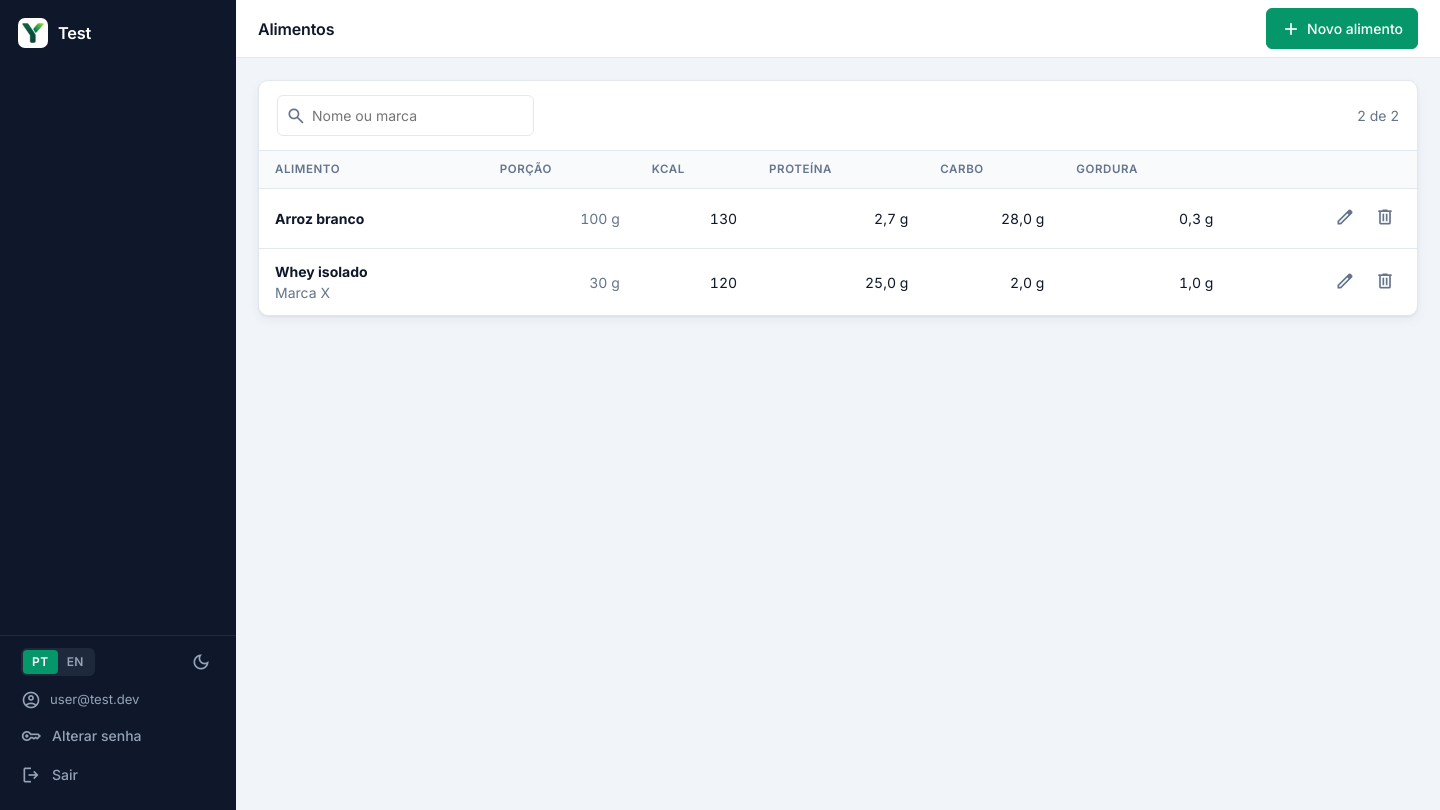
Test: Foods › filtra por nome ou marca
The width and height of the screenshot is (1440, 810).
Type "whey" into the search field with placeholder "Nome ou marca". click: (406, 116)
box: [277,95,534,136]
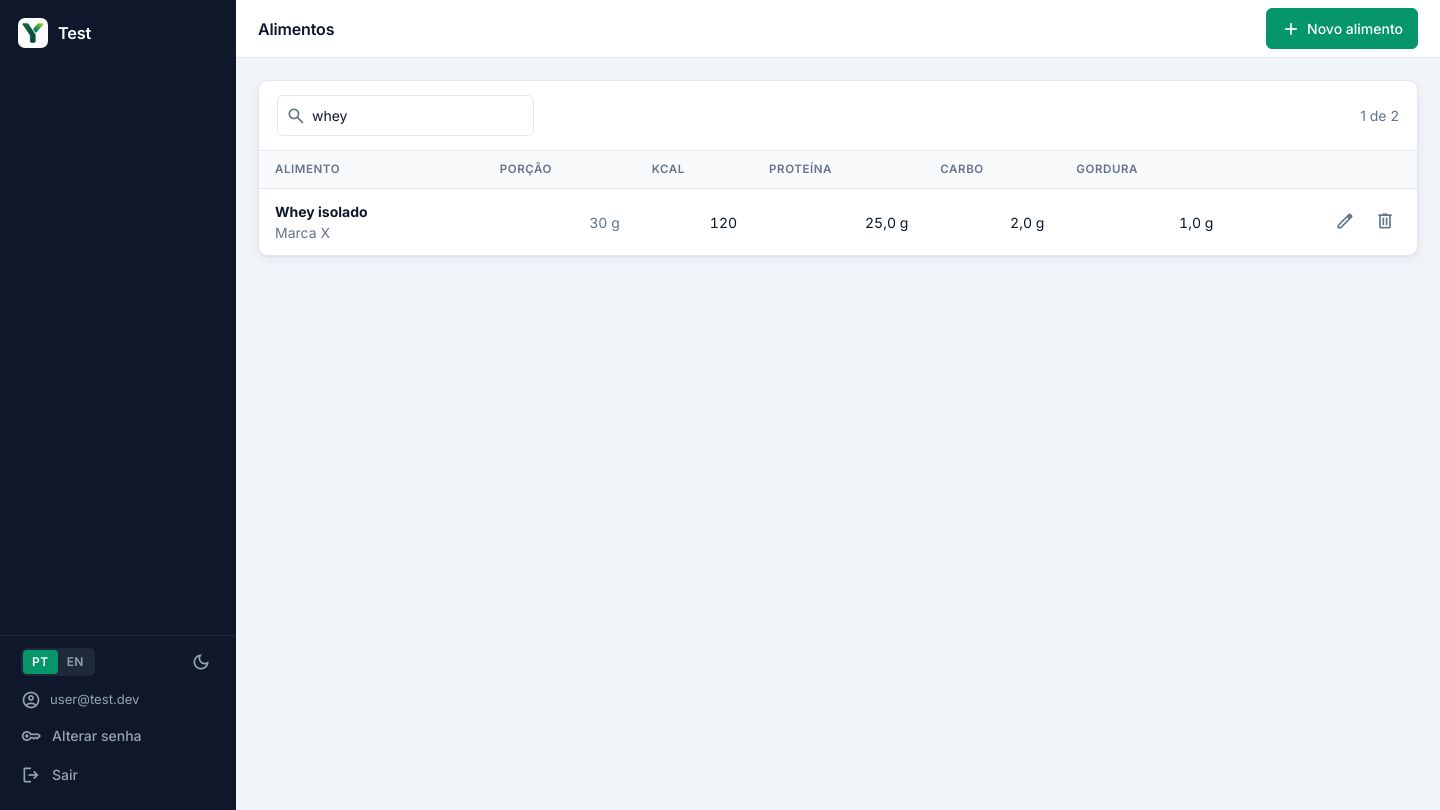
Expected: the text "Whey isolado" is shown, [275,203,368,220]
Now the text "1 de 2" is shown, box [1360,105,1399,126]
Now the text "Arroz branco" is gone
Replace the text in the search field with "marca x". click: (406, 116)
box: [277,95,534,136]
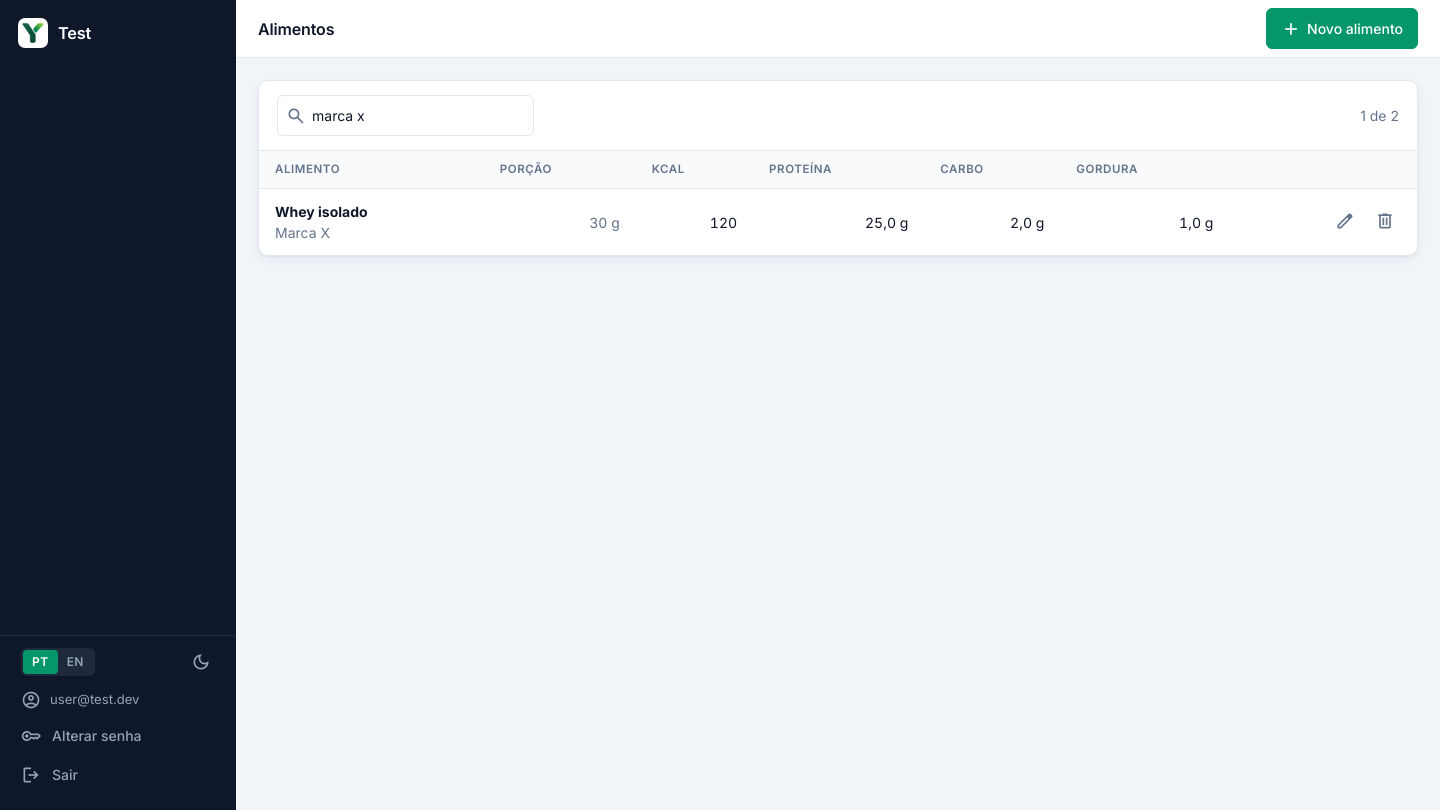
Expected: the text "Whey isolado" is shown, [275,203,368,220]
Replace the text in the search field with "inexistente". click: (406, 116)
box: [277,95,534,136]
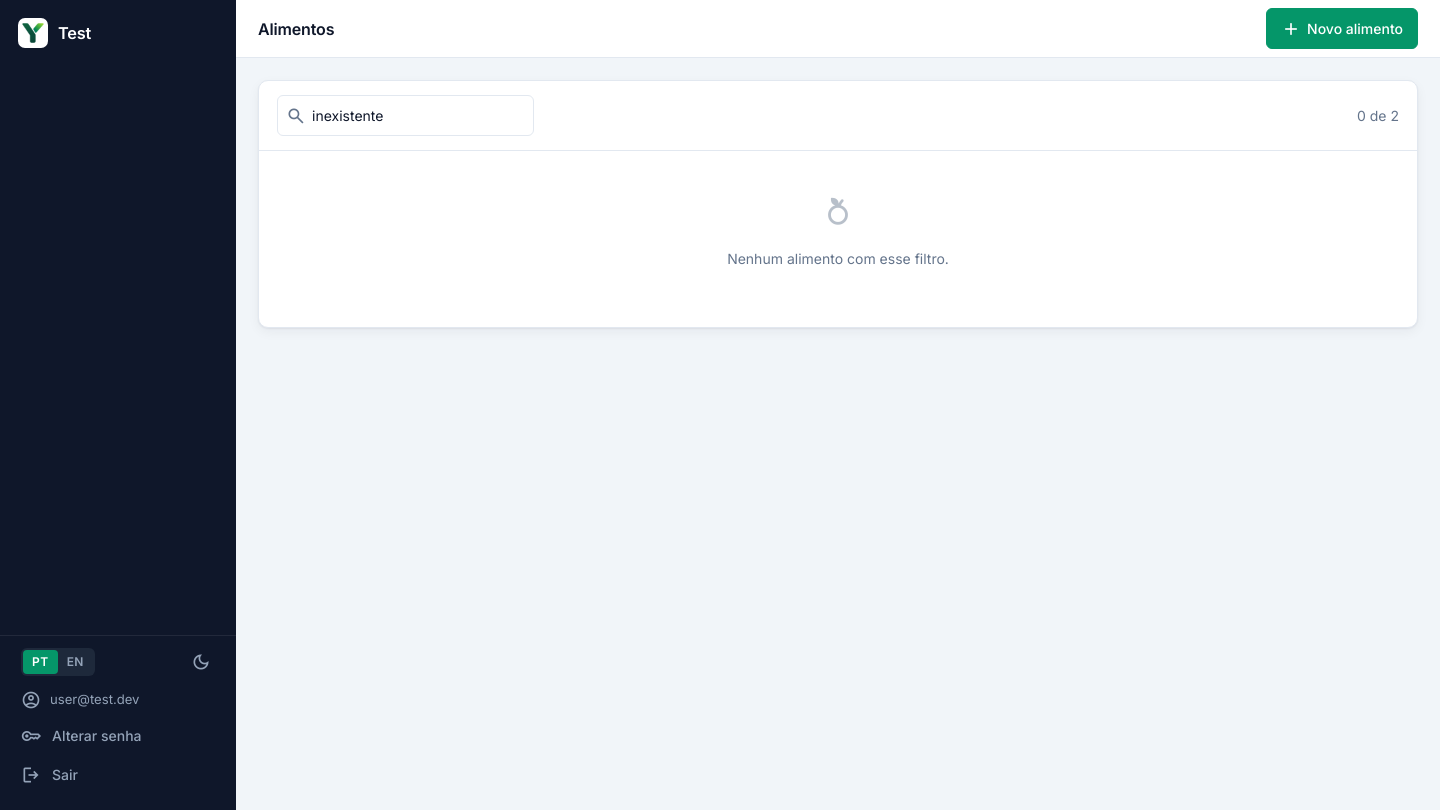
Now the text "Nenhum alimento com esse filtro." is shown, box [727,250,949,267]
